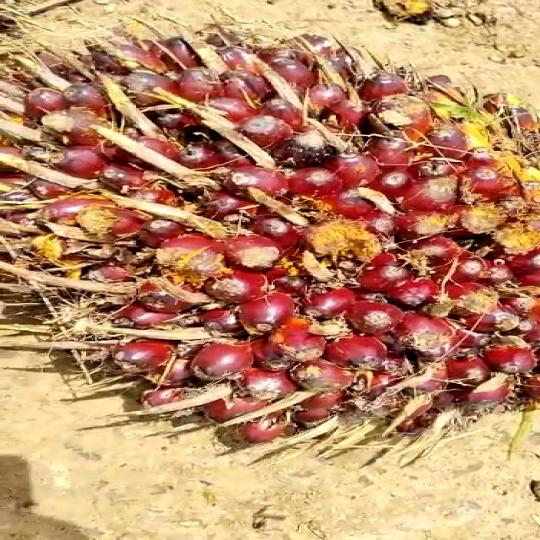kurang masak: (0, 26, 540, 462)
